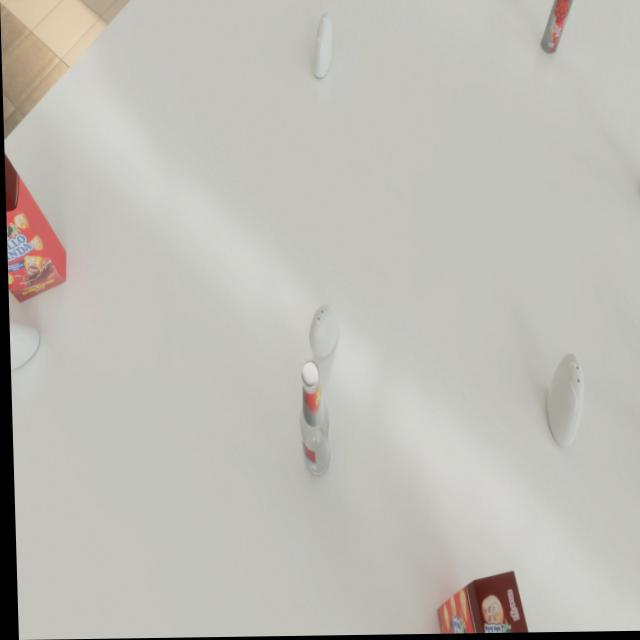Bottle: (294, 361, 329, 480)
HelloPanda: (3, 147, 65, 302)
Rita_zero_sugar: (540, 0, 581, 56)
Salt: (543, 354, 583, 448), (306, 304, 338, 358), (7, 318, 38, 369), (311, 13, 332, 79)
